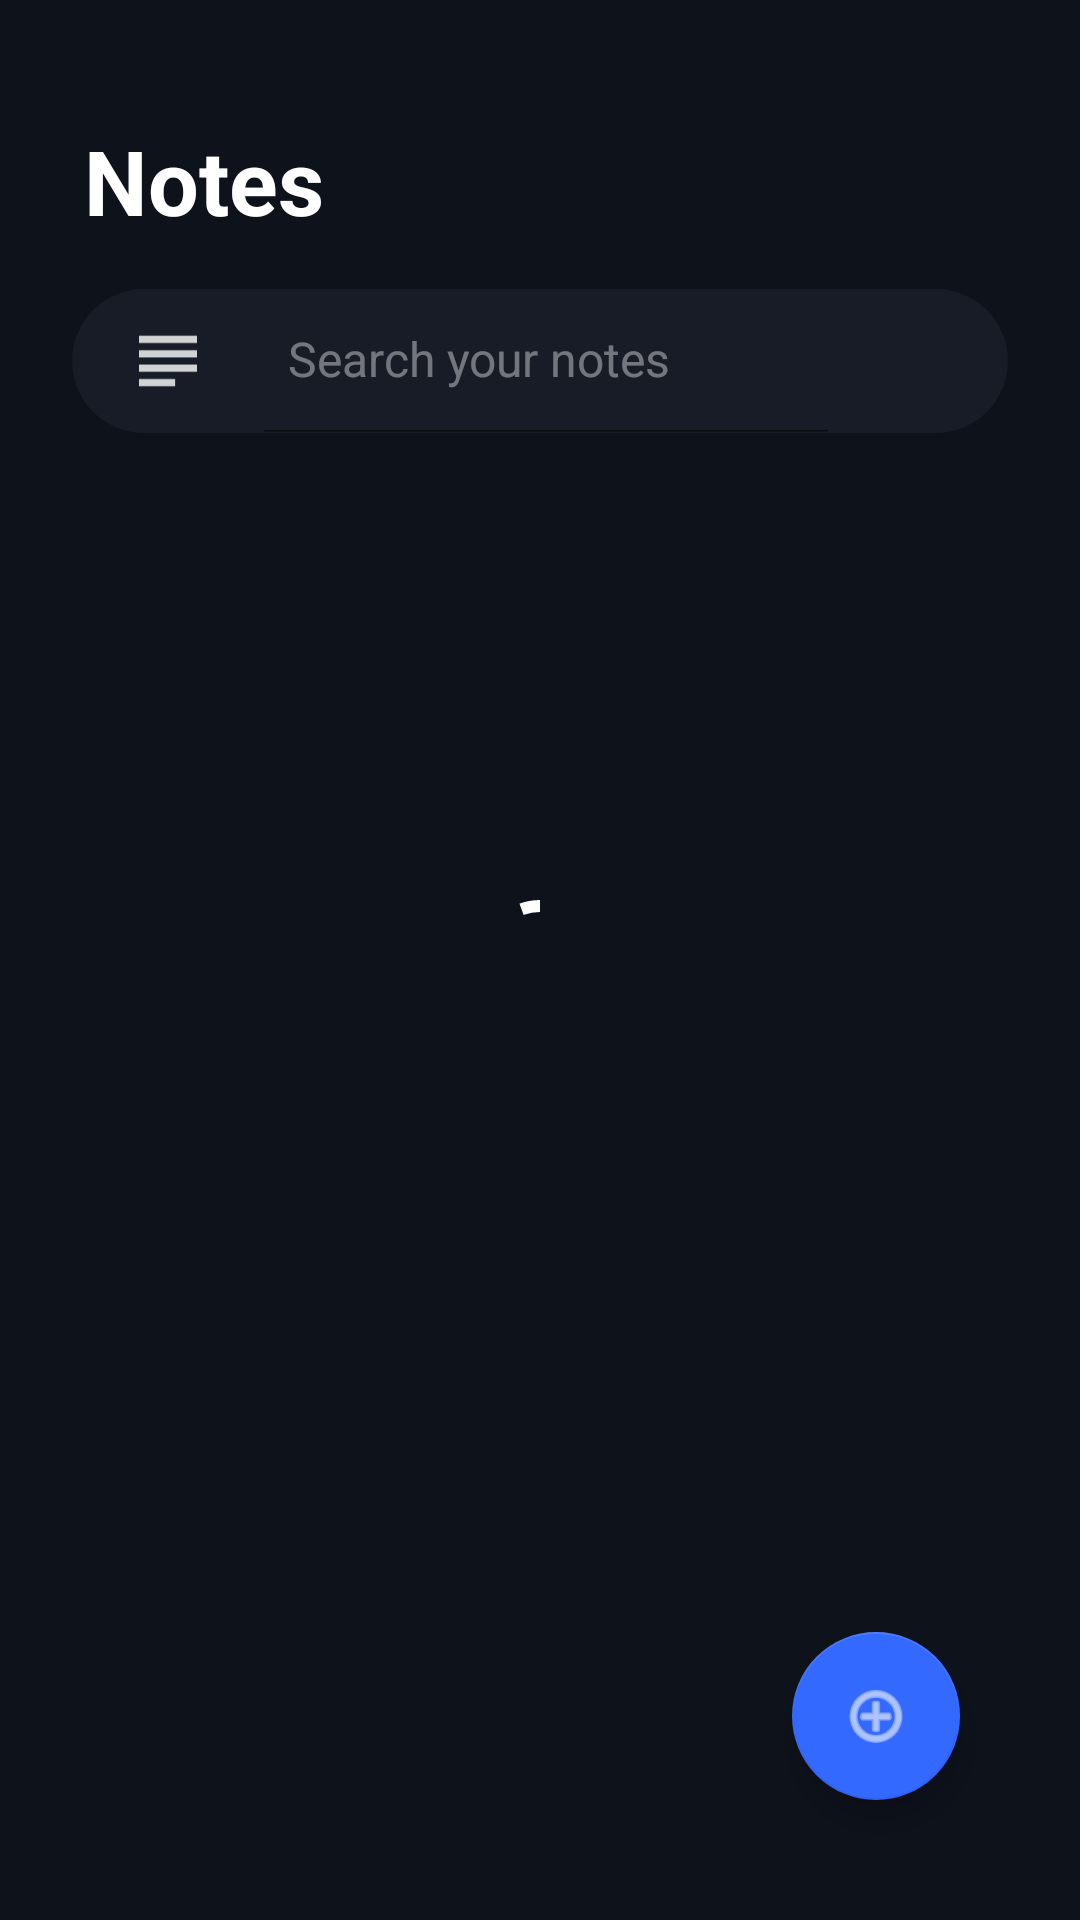

Icons on this 1080px×1920px Android screen, each with the point to tap as point (x, y):
add note: point (876, 1716)
